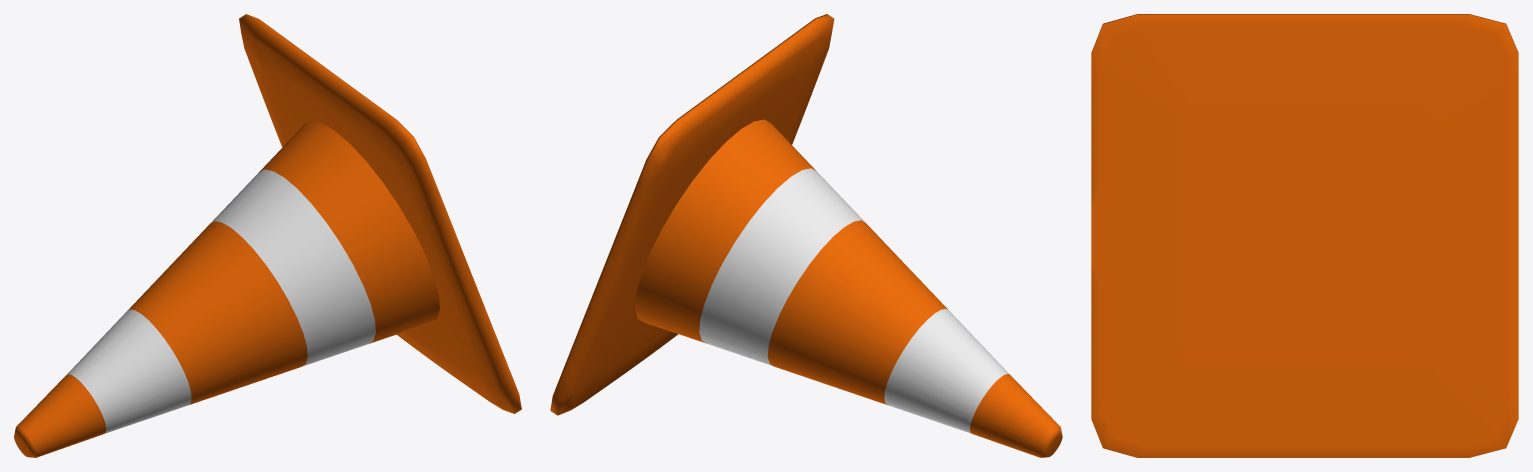
Rendered from Fallen_Trafic_Cone.fbx.
3 views of the same model, side by side, from view 1: azimuth 30°, elevation 25°; view 2: azimuth 150°, elevation 25°; view 3: azimuth 270°, elevation 25° (orthographic). The views are drawn at different scales.
Visible parts, largest first — view 1: Traffic_cone1; view 2: Traffic_cone1; view 3: Traffic_cone1.
Boxes of the visible parts, x1=… form: Traffic_cone1: x1=14, y1=14, x2=521, y2=457; Traffic_cone1: x1=550, y1=14, x2=1062, y2=457; Traffic_cone1: x1=1091, y1=14, x2=1518, y2=457.
Size of the model in its own units: 8.12 by 5.78 by 5.88.
